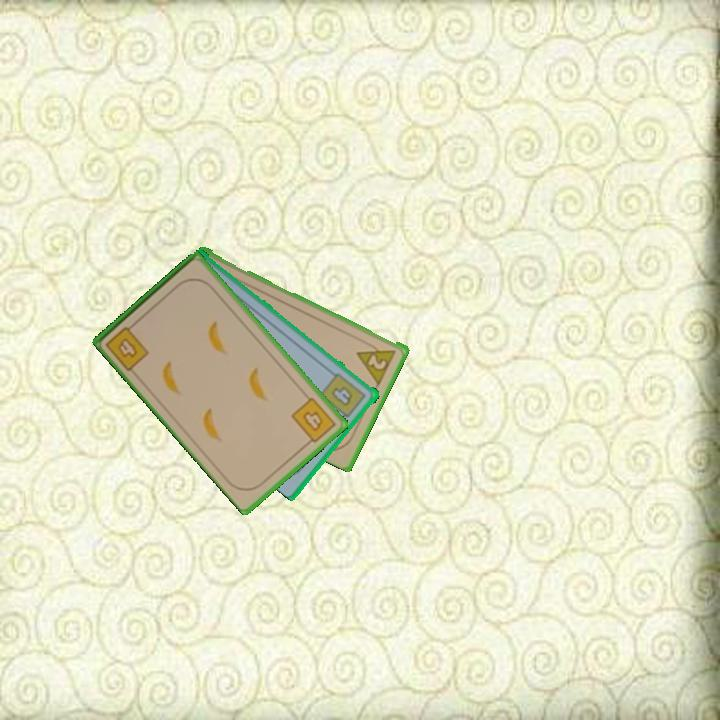2p: (353, 338, 399, 386)
4b: (317, 369, 369, 424), (287, 394, 339, 449), (102, 318, 152, 373)
